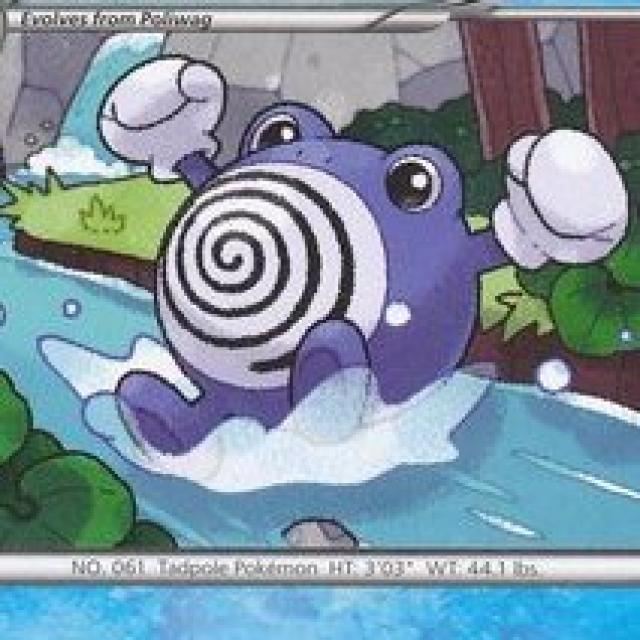Poliwhirl: (116, 44, 536, 446)
